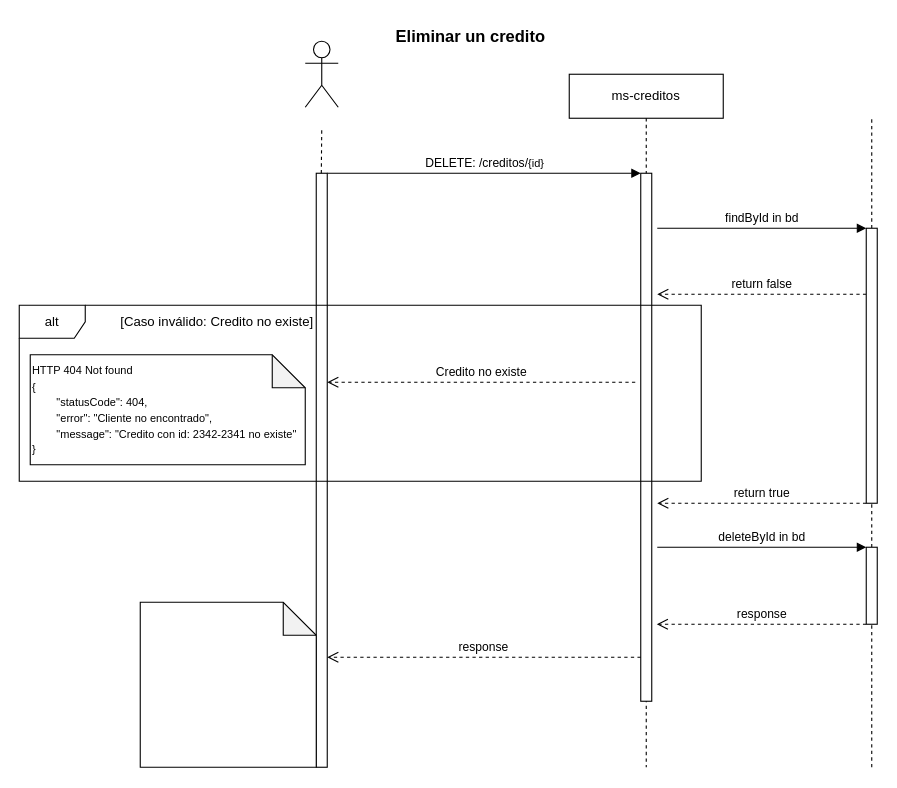
This 897x788 diagram has some shape labels left out. Here are the shapes that lost their labels. From the top down, the centre of each, then its label:
point 321,73: Cliente
point 227,684: HTTP 204 No content
